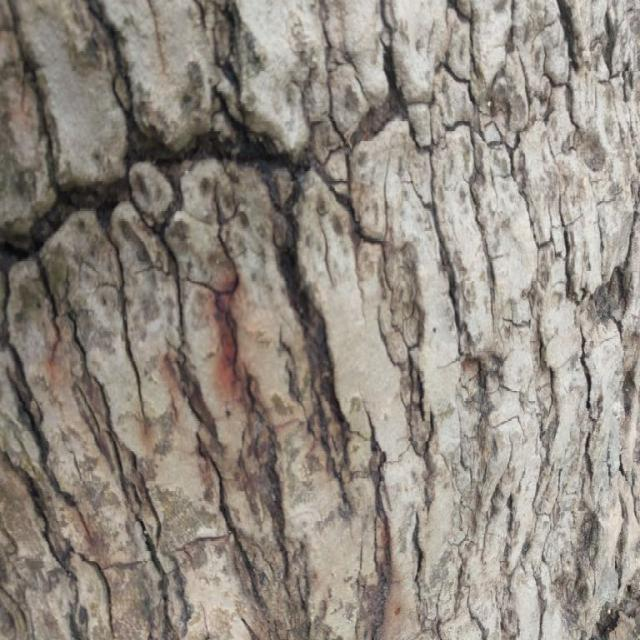stembleeding: (172, 238, 292, 465)
